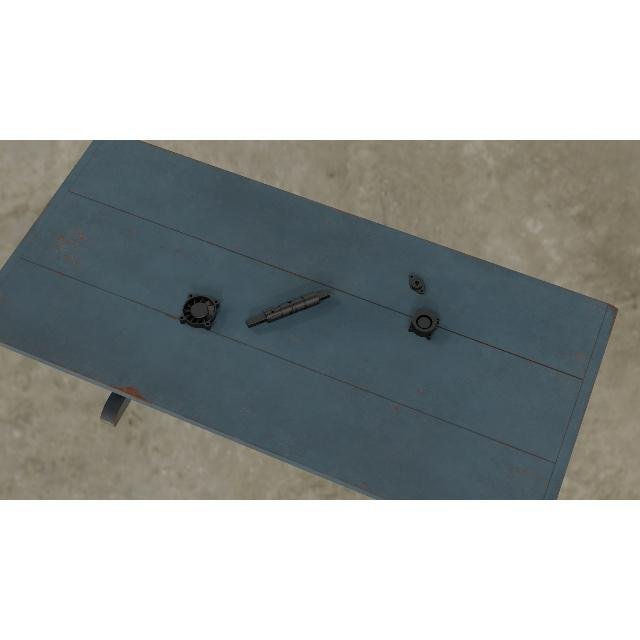Pieza1: (245, 285, 332, 333)
Pieza2: (404, 271, 430, 297)
Pieza3: (407, 306, 441, 342)
Pieza4: (178, 292, 220, 332)
